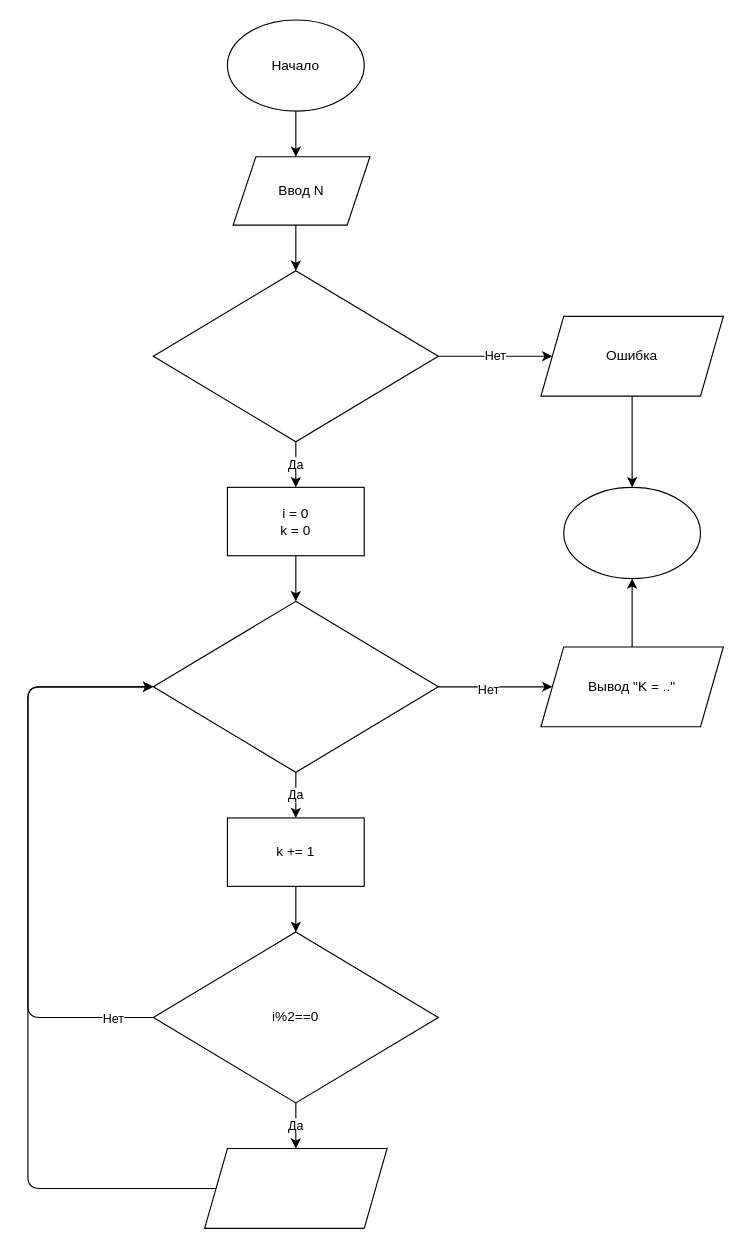
The diagram is 743 pixels wide and 1248 high, and some of its shapes have lost their labels. The shapes that lost their labels are listed below. From the top down, each one's centre as x and y in pixels, then its label:
At (x=295, y=356): "Являются ли N целым числом больше 0".
At (x=632, y=532): "Конец".
At (x=295, y=686): "i < n".
At (x=295, y=1187): "Вывод i".
